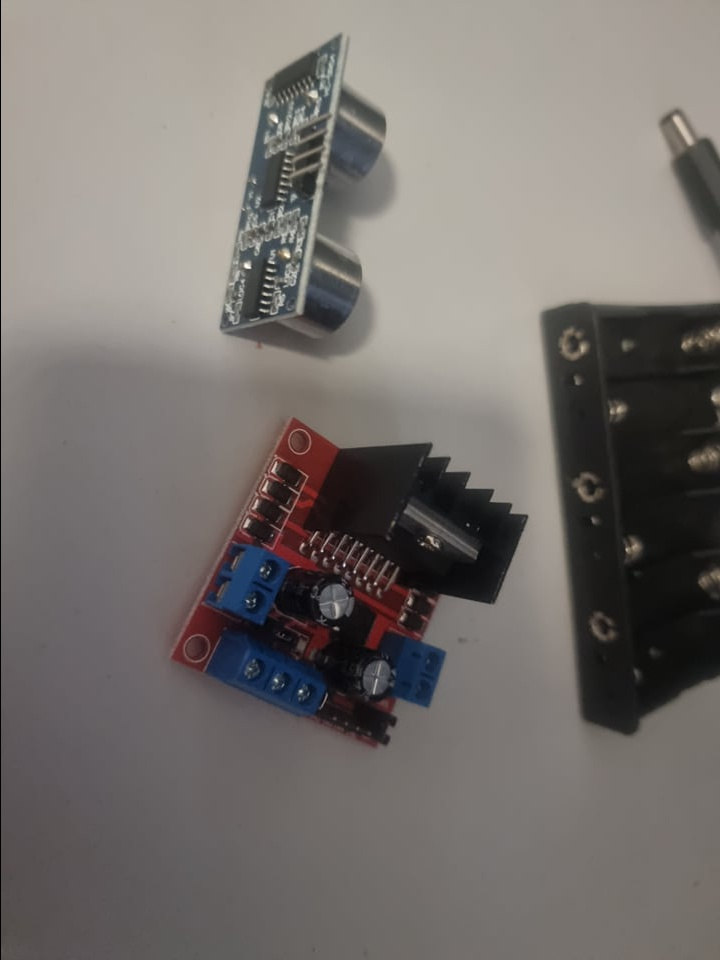BATTERY BOX: (542, 295, 719, 734)
MOTOR: (166, 417, 528, 755)
SENSOR: (211, 32, 391, 341)
